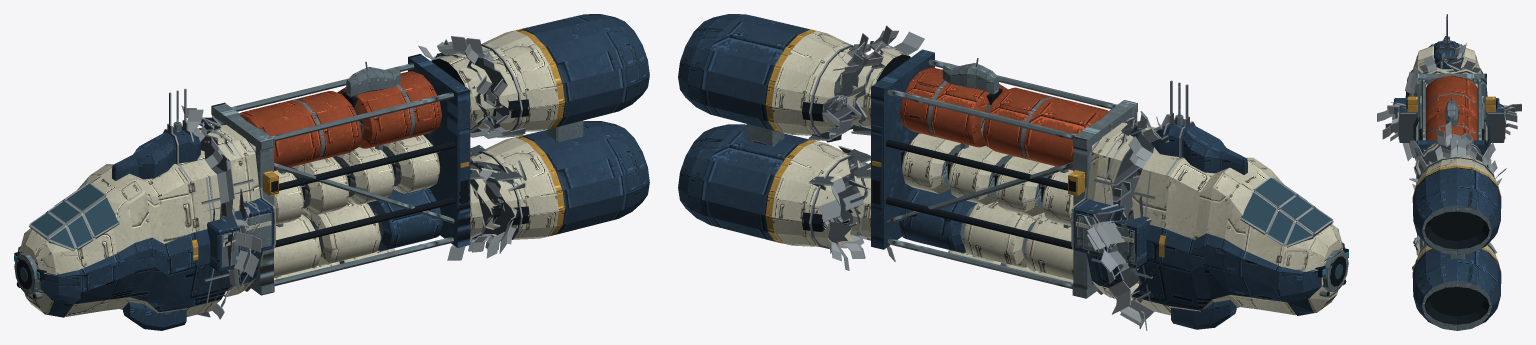
File: wayfarer-wreck.glb
3 views of the same model, side by side, from view 1: azimuth 30°, elevation 25°; view 2: azimuth 150°, elevation 25°; view 3: azimuth 270°, elevation 25° (orthographic). The views are drawn at different scales.
Parts seen in each view (by area): view 1: Wayfarer wreck cabin, Wayfarer wreck prow, Wayfarer wreck drive; view 2: Wayfarer wreck cabin, Wayfarer wreck drive, Wayfarer wreck prow; view 3: Wayfarer wreck drive, Wayfarer wreck cabin, Wayfarer wreck prow.
Part boxes in pixels (box(x1,y1,x2,y2)): Wayfarer wreck cabin: box(181, 36, 502, 307); Wayfarer wreck prow: box(14, 88, 261, 330); Wayfarer wreck drive: box(430, 14, 649, 258); Wayfarer wreck cabin: box(842, 25, 1169, 330); Wayfarer wreck drive: box(678, 14, 892, 270); Wayfarer wreck prow: box(1086, 80, 1348, 329); Wayfarer wreck drive: box(1412, 135, 1506, 330); Wayfarer wreck cabin: box(1385, 43, 1521, 255); Wayfarer wreck prow: box(1377, 14, 1517, 161).
Size of the model in its own units: 2.38 by 0.89 by 0.6962.
Materials: 4 (1 with a texture image).
